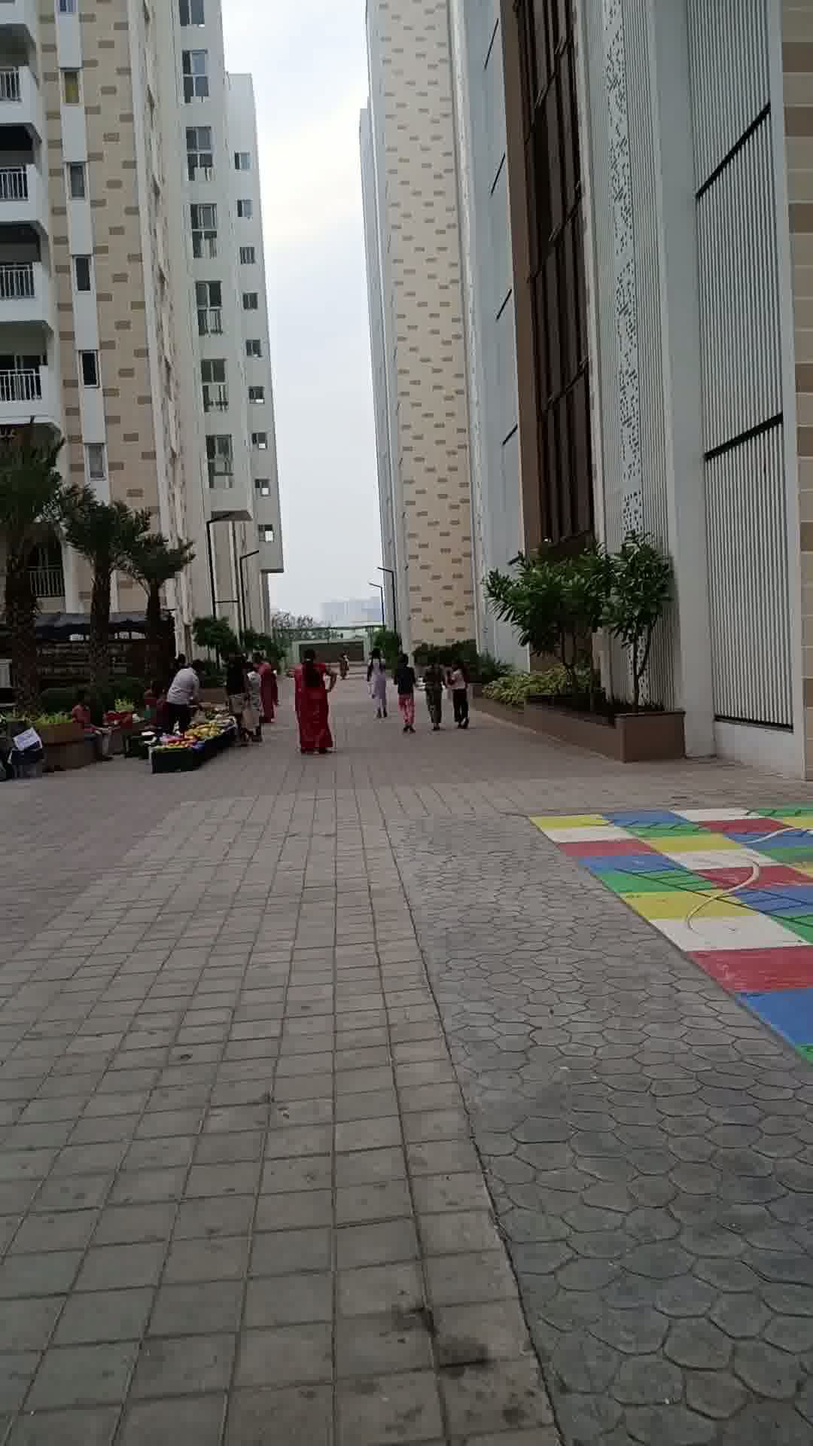person: (270, 638, 358, 771), (218, 640, 254, 759), (443, 640, 480, 735), (175, 648, 205, 753), (361, 633, 390, 730), (248, 641, 278, 727), (392, 643, 418, 740), (418, 645, 445, 730)
tree: (2, 424, 80, 723), (477, 548, 600, 706), (58, 474, 138, 712), (583, 523, 678, 717), (120, 504, 189, 707)
